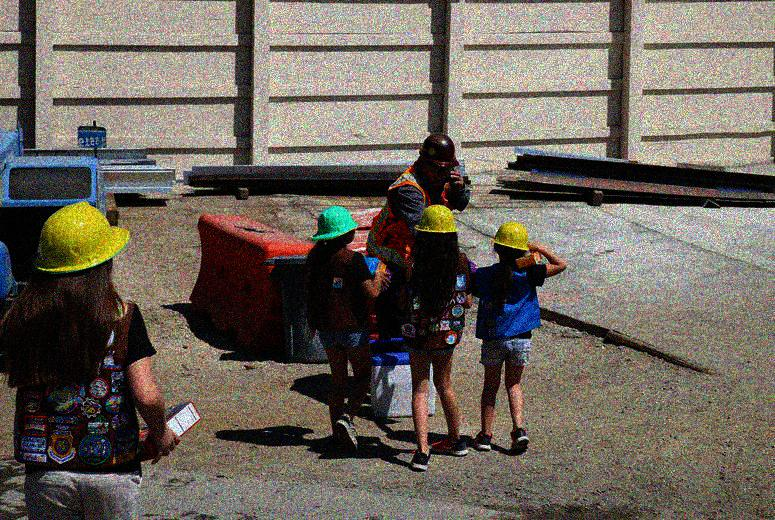helmet: (33, 200, 133, 302), (310, 204, 359, 252), (414, 203, 460, 247), (418, 133, 458, 183), (492, 222, 532, 266)
